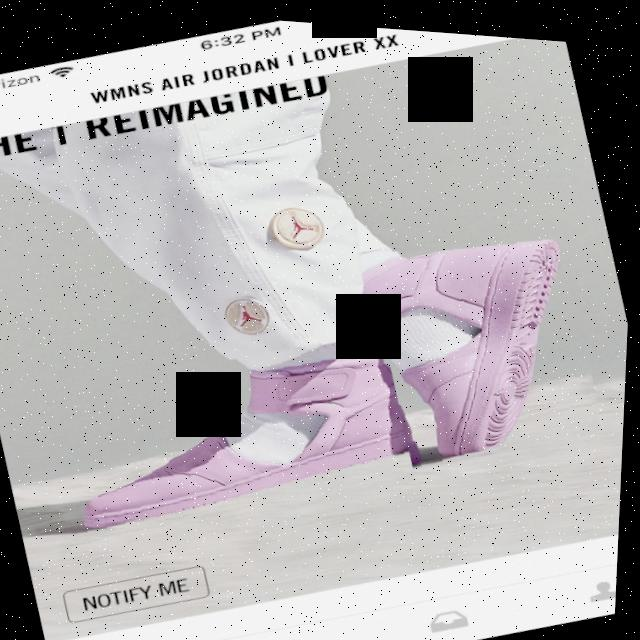shoe: (40, 304, 429, 581), (324, 195, 626, 490)
